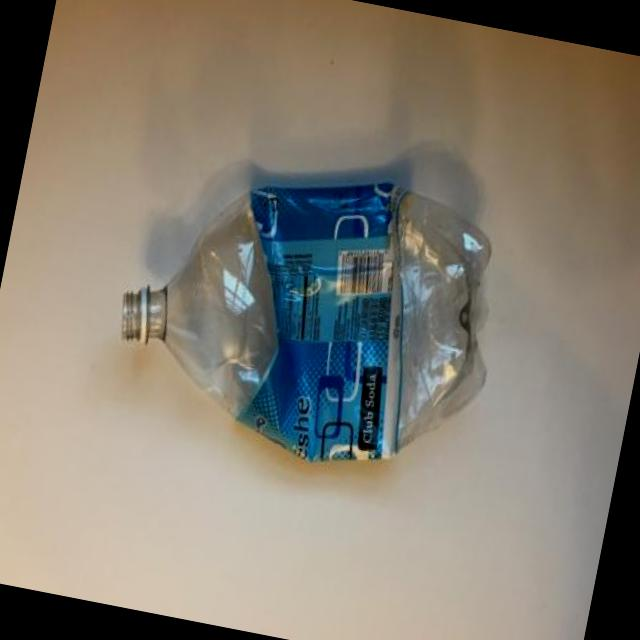Recycle: (95, 136, 509, 495)
